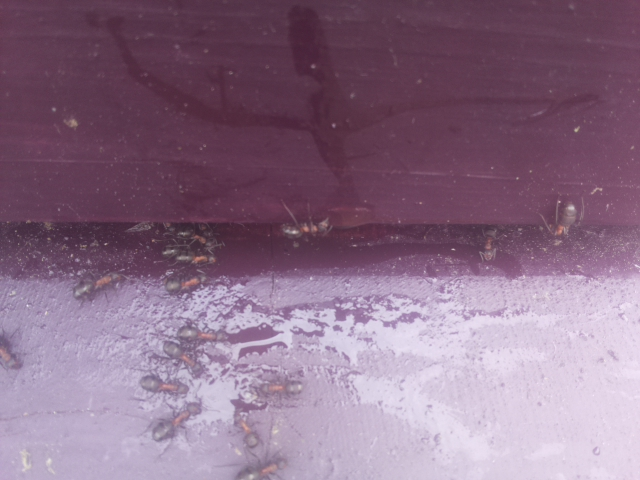ant: (145, 392, 210, 448), (152, 330, 211, 381), (69, 270, 131, 302), (228, 451, 294, 480), (244, 375, 310, 403), (272, 212, 339, 239), (163, 267, 211, 296), (232, 412, 263, 453), (141, 372, 189, 397), (551, 198, 578, 241), (475, 222, 499, 265), (0, 340, 22, 375)
